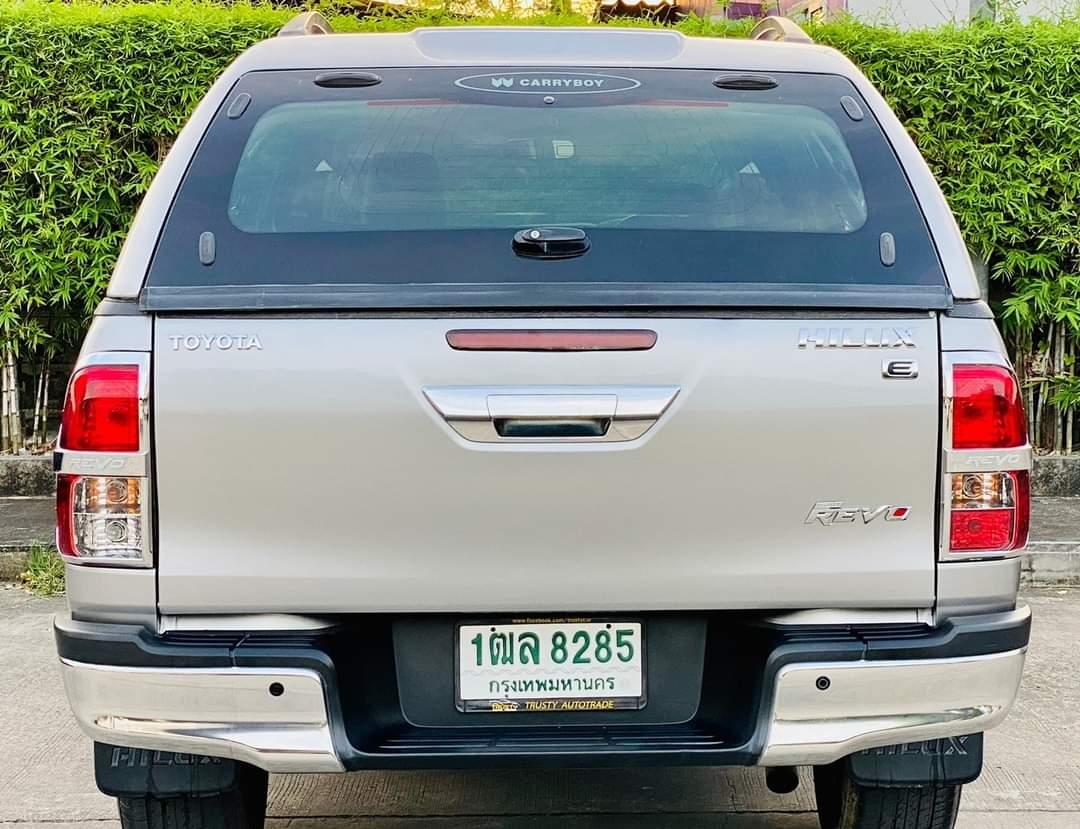license-plate: (453, 617, 650, 716)
